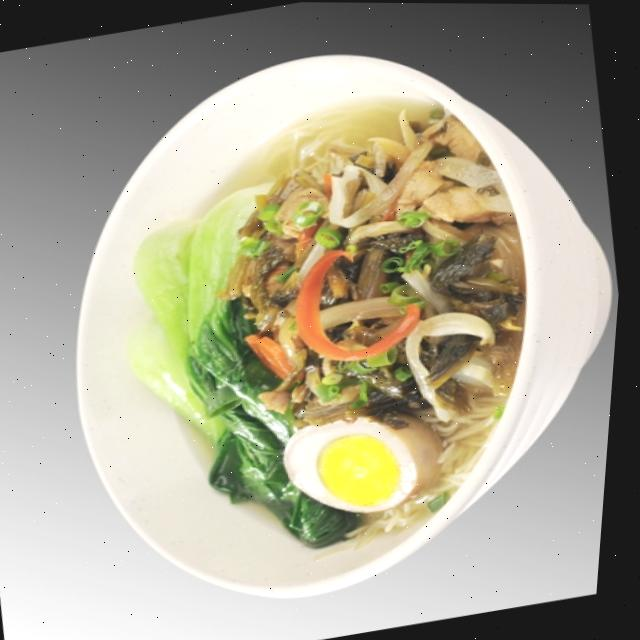面条主食: (0, 6, 640, 637)
